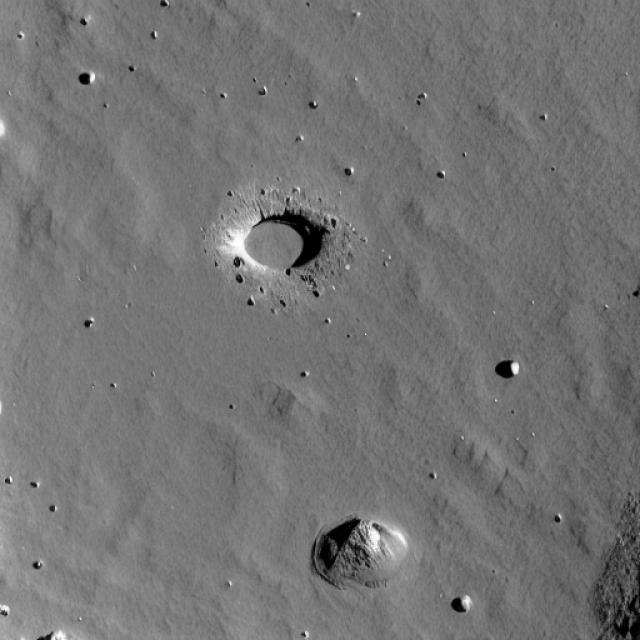crater: (241, 212, 328, 270)
